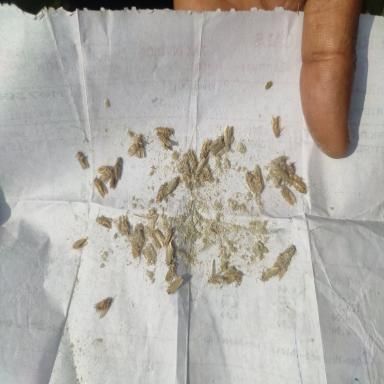pbw: (92, 293, 112, 318), (254, 266, 280, 282), (91, 171, 107, 197), (244, 172, 260, 194), (270, 116, 284, 138), (166, 276, 183, 294), (127, 139, 142, 157), (96, 215, 114, 230), (280, 186, 294, 205), (163, 225, 176, 245), (270, 167, 290, 180), (270, 152, 288, 166), (289, 180, 308, 192), (76, 151, 88, 170), (161, 248, 175, 264), (154, 228, 165, 248), (222, 125, 232, 147), (287, 162, 296, 185), (74, 235, 86, 252), (134, 222, 144, 242), (130, 240, 140, 260), (200, 138, 210, 158), (120, 213, 129, 235), (224, 268, 240, 280), (207, 274, 228, 283), (155, 126, 171, 137), (96, 166, 112, 177), (166, 178, 176, 195), (109, 165, 116, 189), (196, 157, 205, 174), (150, 233, 160, 248), (211, 136, 223, 148), (188, 146, 196, 164), (116, 156, 122, 180), (212, 144, 223, 154)
